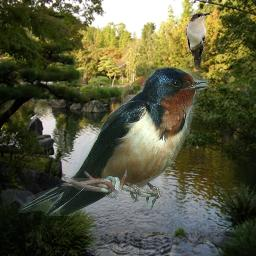Cuckoo: (186, 12, 211, 71)
Swallow: (18, 66, 208, 216)
